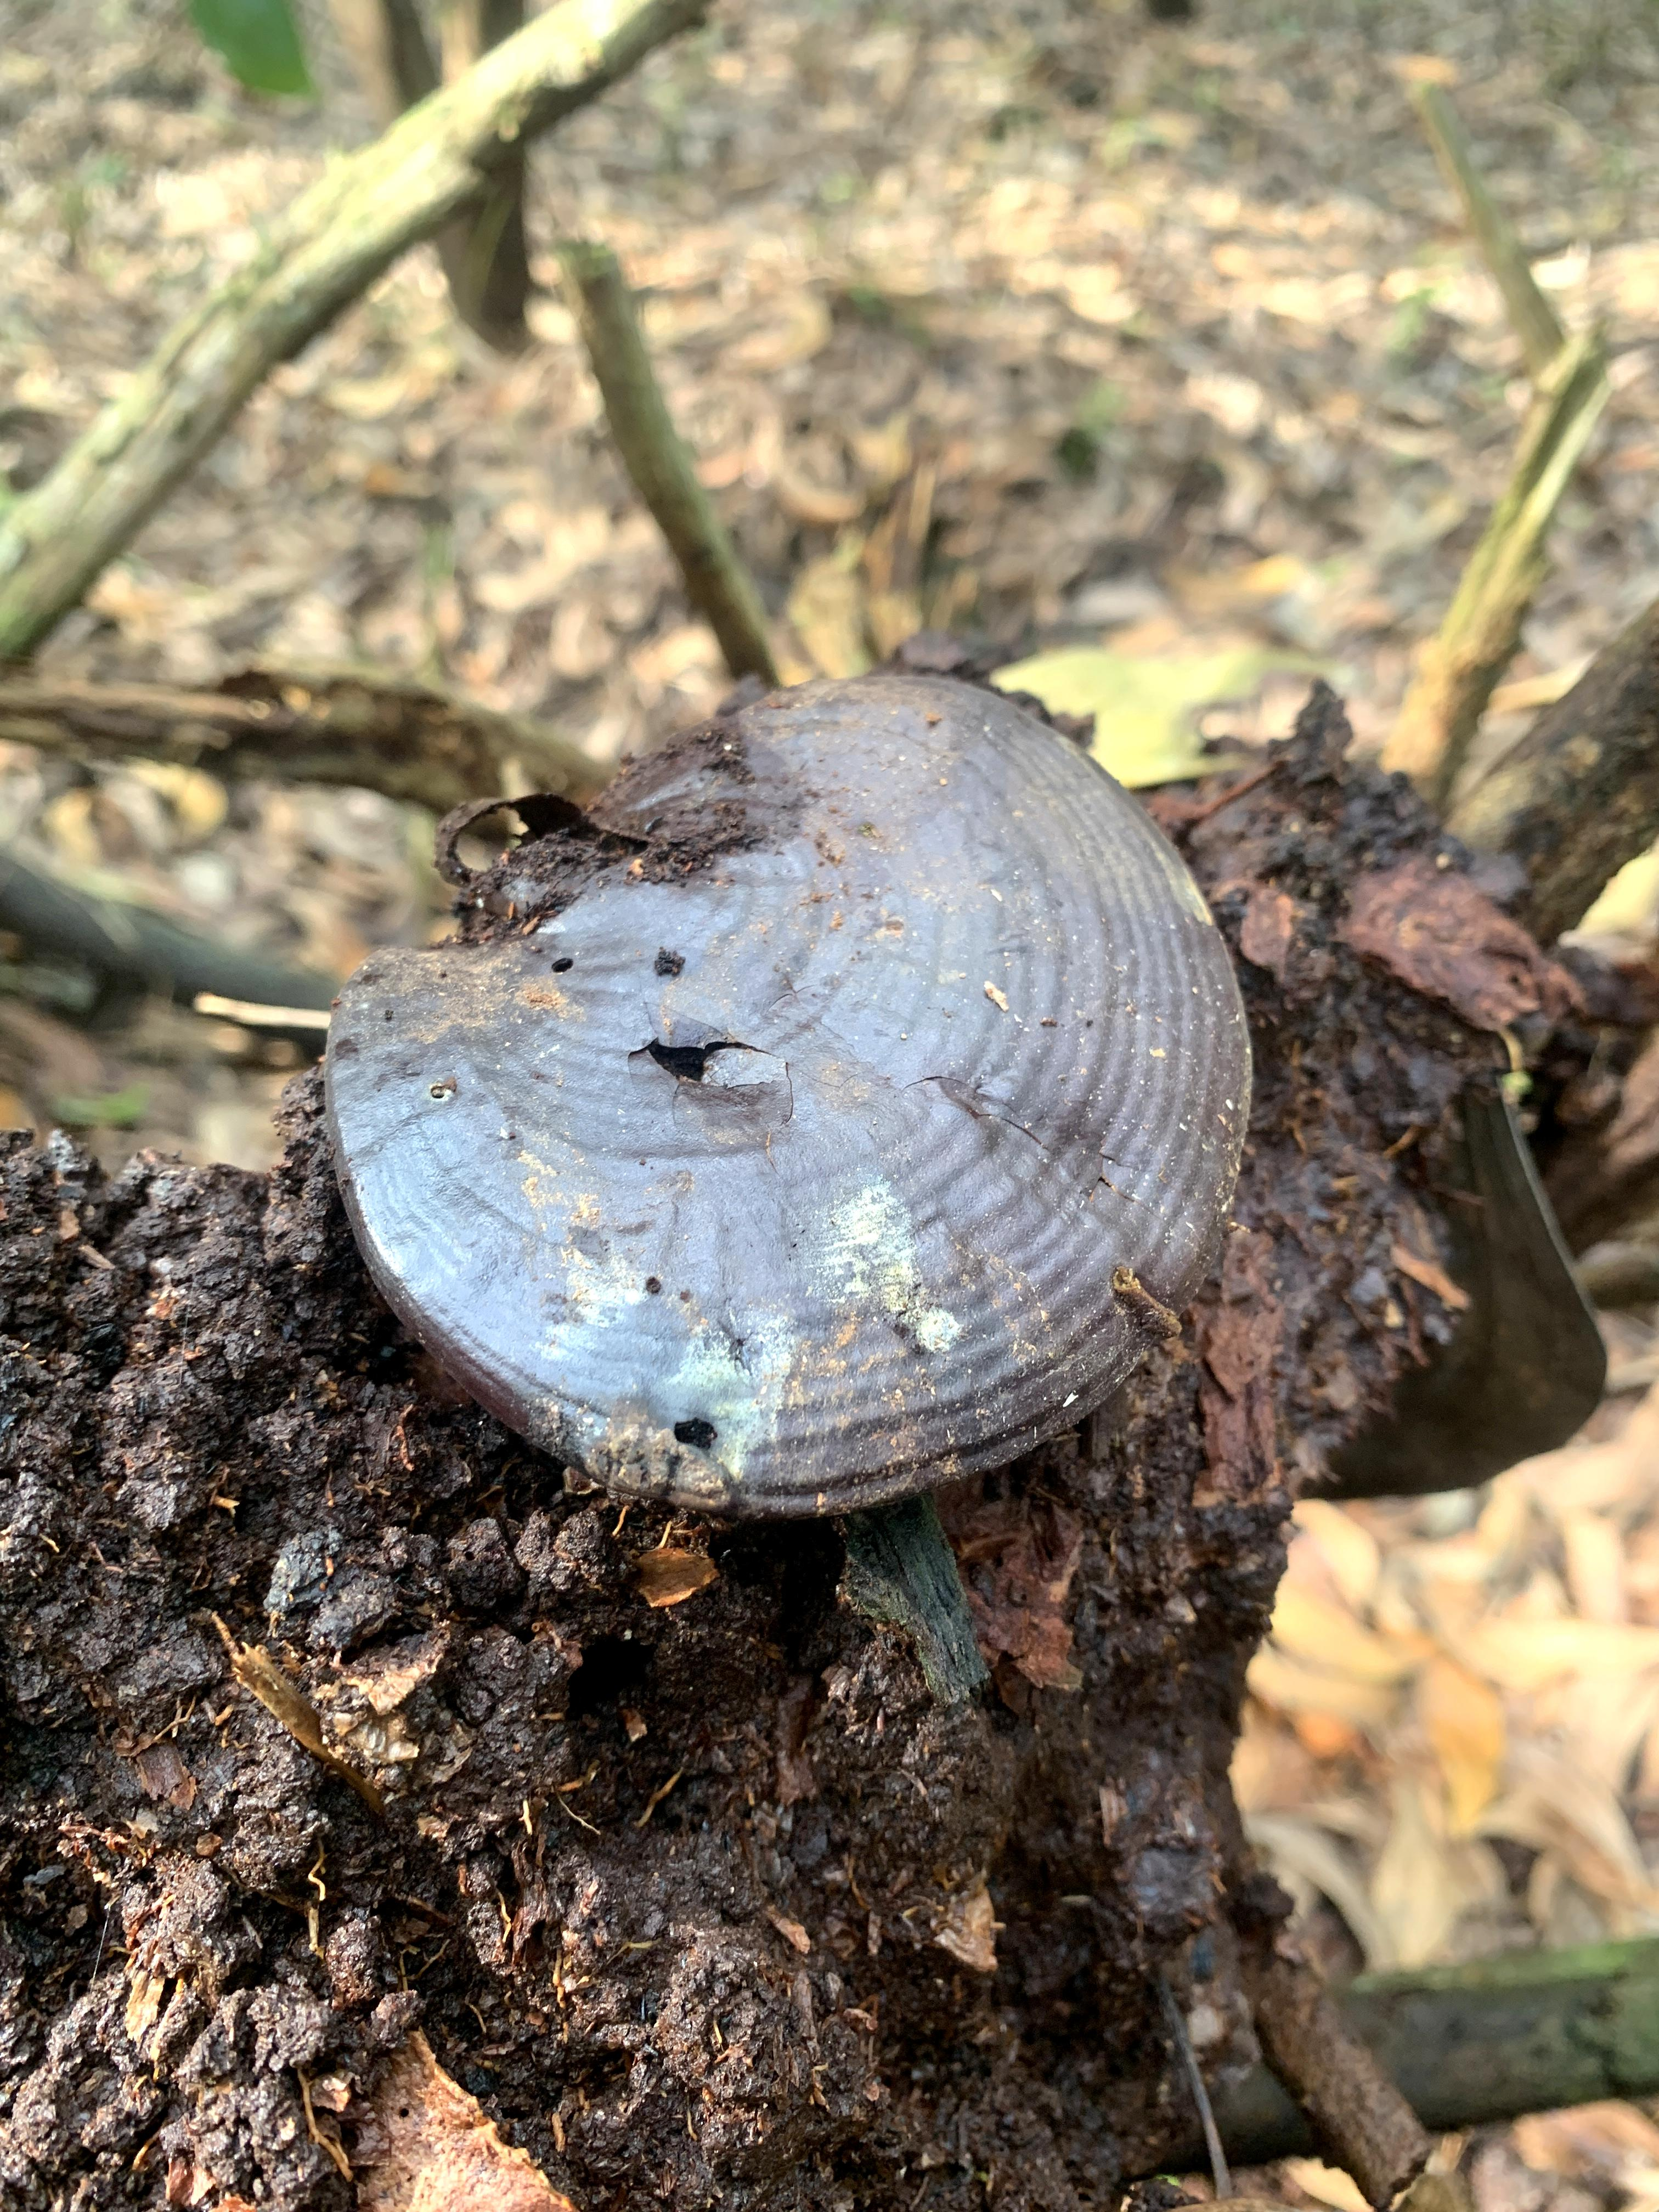Ganoderma - Fruit Body: (286, 676, 1253, 1498)
